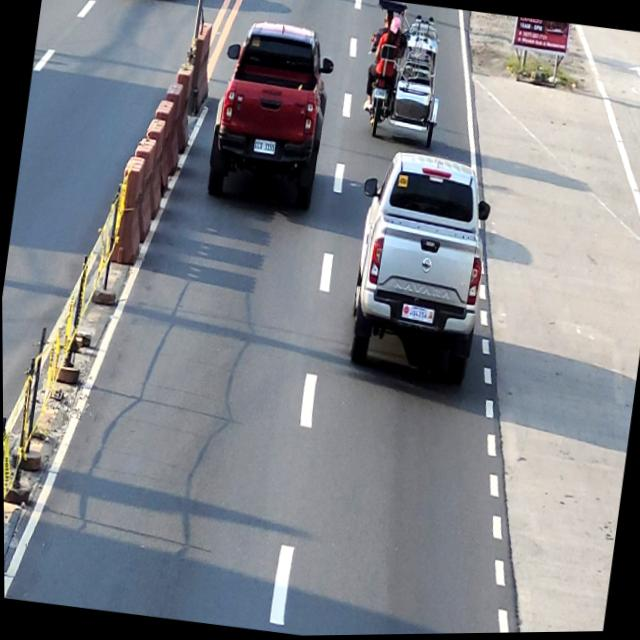Car: (338, 146, 498, 392), (203, 17, 340, 217)
License-Plate: (401, 305, 434, 326), (253, 140, 275, 155), (374, 89, 387, 101)
Tricycle: (356, 0, 453, 151)
